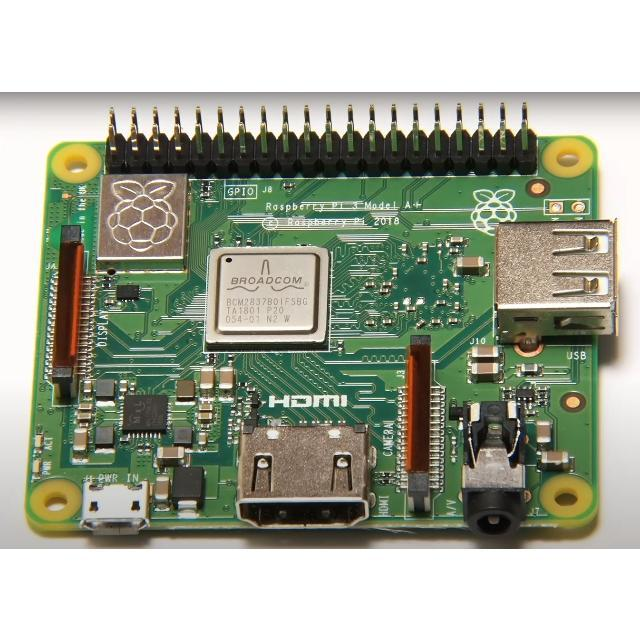Raspberry-Pi-3-A-: (27, 104, 619, 539)
